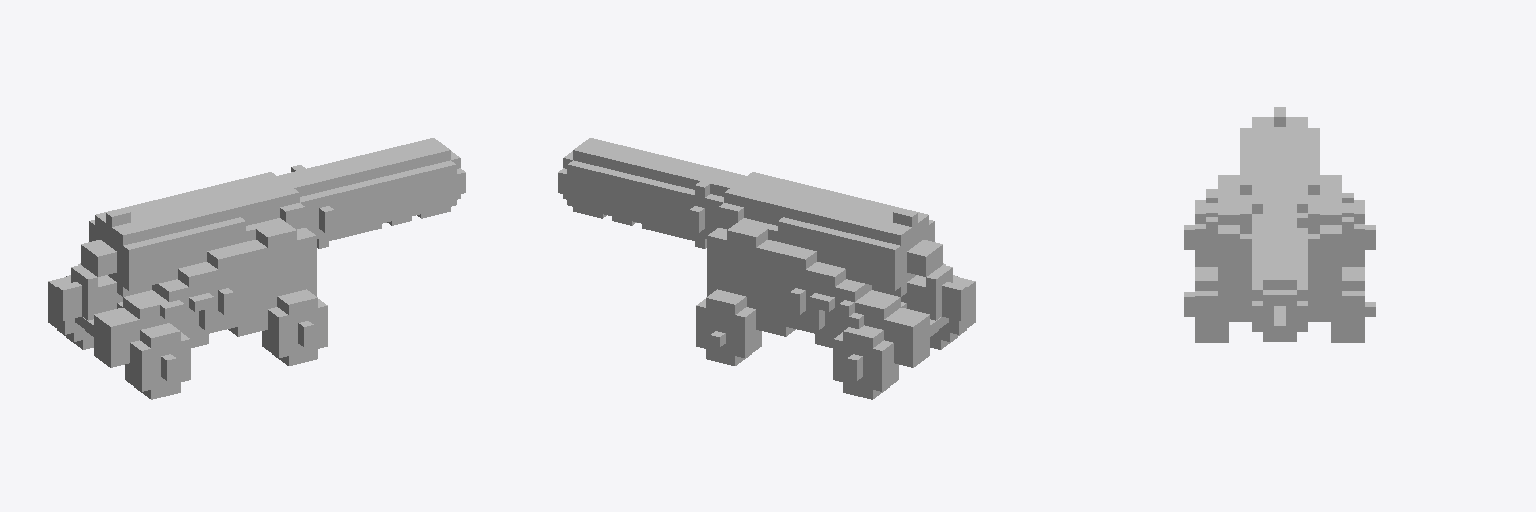
Rendered from cannon.obj.
3 views of the same model, side by side, from view 1: azimuth 30°, elevation 25°; view 2: azimuth 150°, elevation 25°; view 3: azimuth 270°, elevation 25° (orthographic).
Bounding box in the file's own units: 40 × 15 × 17.